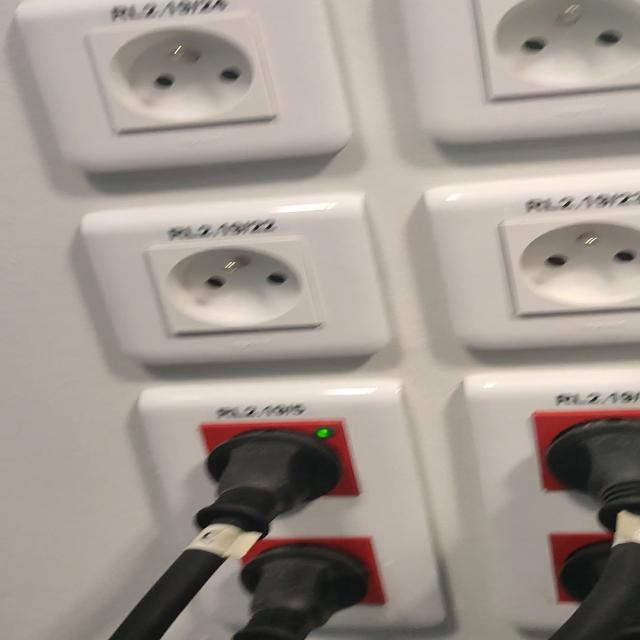house plug: (84, 12, 279, 134), (148, 238, 325, 334), (472, 0, 640, 101), (497, 211, 640, 317)
